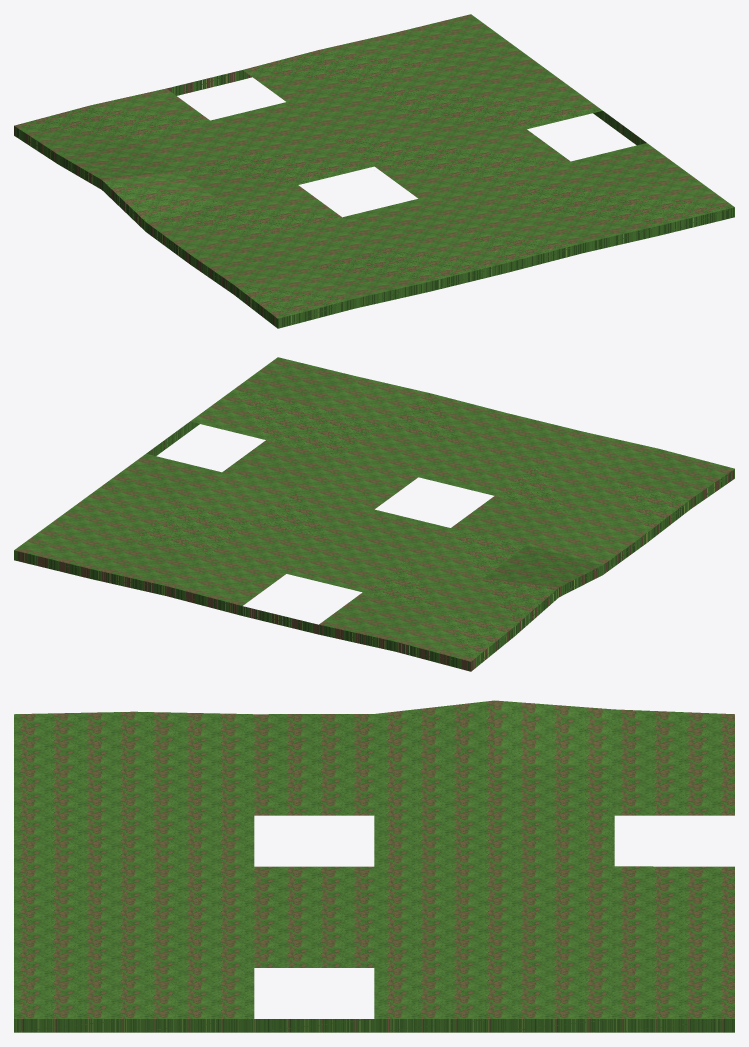
Rendered from rv_terrain_13_lod3.gltf.
3 renders of one model, top to bottom at view 1: azimuth 30°, elevation 25°; view 2: azimuth 150°, elevation 25°; view 3: azimuth 270°, elevation 25°, orthographic. The views are drawn at different scales.
Parts seen in each view (by area): view 1: RV_Terrain_13_lod3; view 2: RV_Terrain_13_lod3; view 3: RV_Terrain_13_lod3.
Boxes of the visible parts, x1,y1,x2,y2 form: RV_Terrain_13_lod3: [14, 14, 734, 328]; RV_Terrain_13_lod3: [14, 357, 734, 671]; RV_Terrain_13_lod3: [14, 700, 734, 1032].
Size of the model in its own units: 72 by 3.01 by 72.
Materials: 2 (1 with a texture image).
